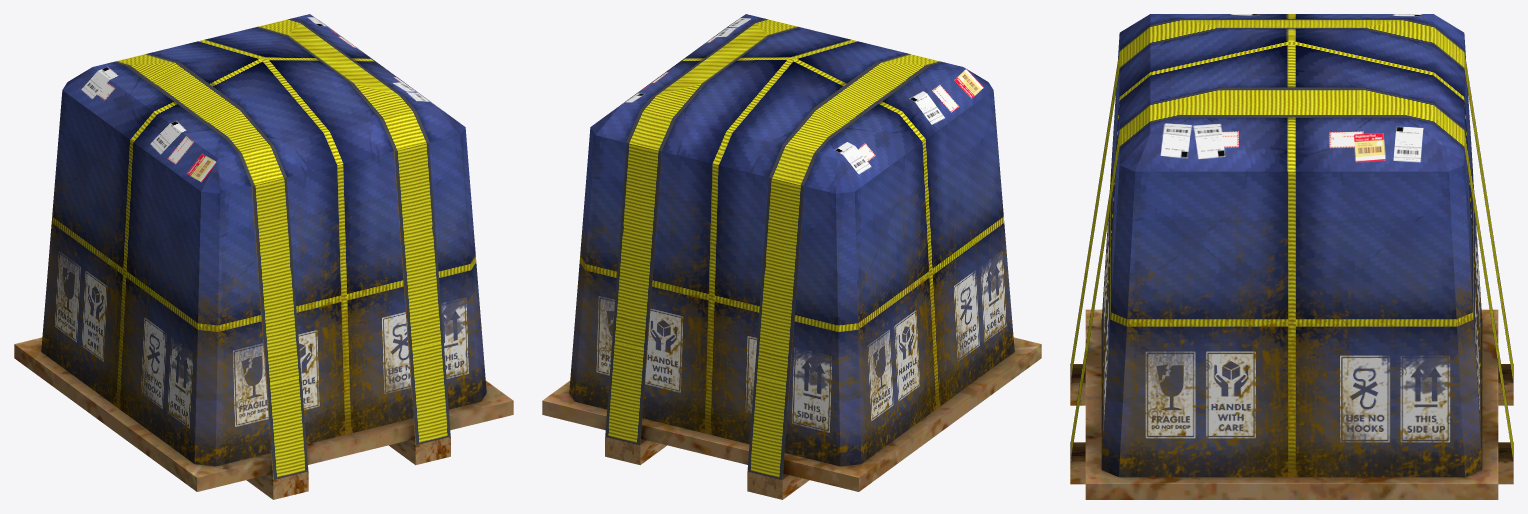
File: Cargo_Pack_01.fbx
3 views of the same model, side by side, from view 1: azimuth 30°, elevation 25°; view 2: azimuth 150°, elevation 25°; view 3: azimuth 270°, elevation 25° (orthographic). The views are drawn at different scales.
Visible parts, largest first — view 1: Cargo_Pack_01; view 2: Cargo_Pack_01; view 3: Cargo_Pack_01.
Part boxes in pixels (x1,y1,x2,y2): Cargo_Pack_01: [14, 14, 513, 499]; Cargo_Pack_01: [542, 14, 1041, 499]; Cargo_Pack_01: [1070, 14, 1513, 499].
Size of the model in its own units: 13.56 by 14.24 by 14.56.
